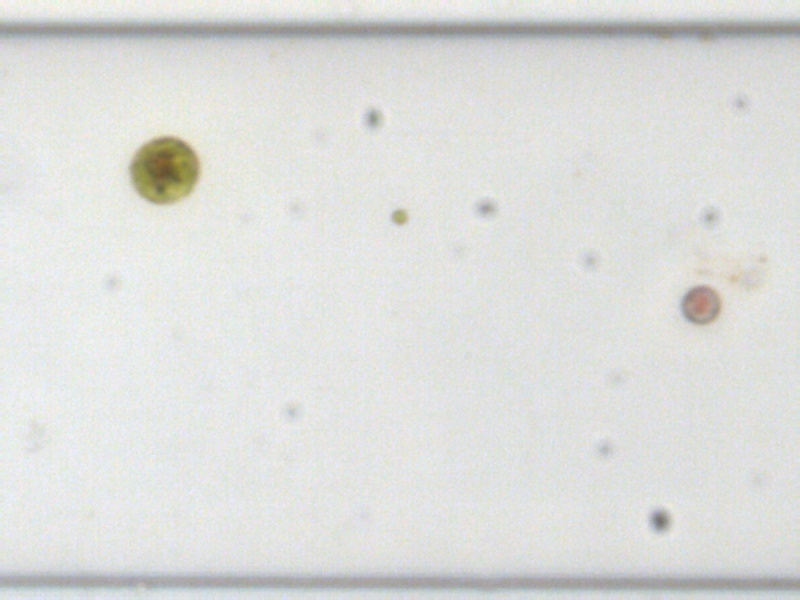Chlorella: (388, 205, 408, 226)
Haematococcus: (124, 131, 201, 207)
Porphyridium: (677, 281, 722, 324)
